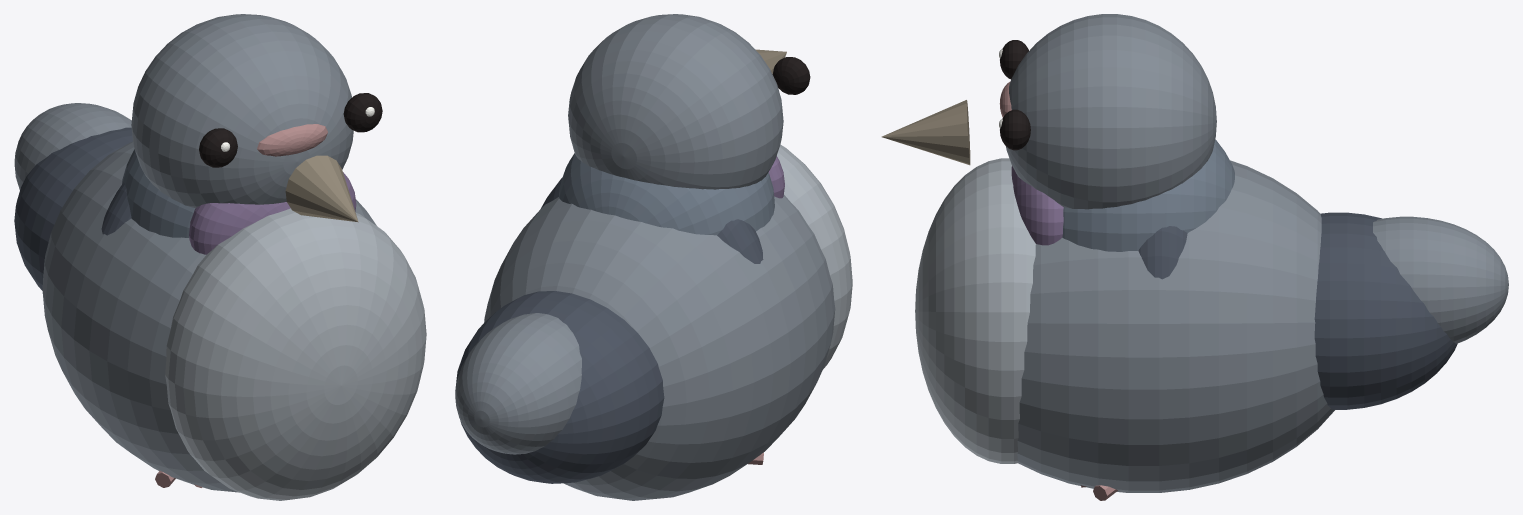
The model's file is pombo.glb.
3 views of the same model, side by side, from view 1: azimuth 30°, elevation 25°; view 2: azimuth 150°, elevation 25°; view 3: azimuth 270°, elevation 25° (orthographic). The views are drawn at different scales.
Parts seen in each view (by area): view 1: world; view 2: world; view 3: world.
Boxes of the visible parts, bbox=[...] form: world: bbox=[14, 14, 426, 500]; world: bbox=[455, 14, 852, 500]; world: bbox=[881, 14, 1508, 500].
Size of the model in its own units: 0.3392 by 0.5143 by 0.645.
